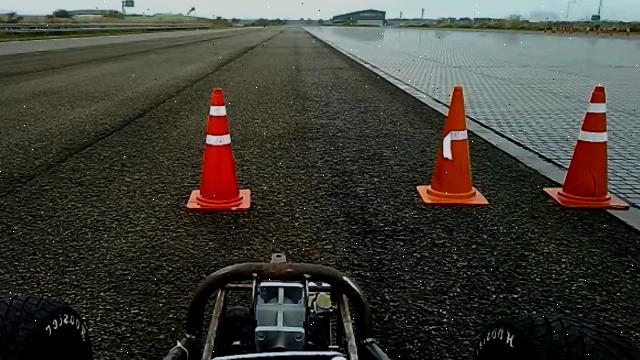red cone: (542, 84, 630, 210), (416, 84, 489, 207), (186, 87, 252, 211)
